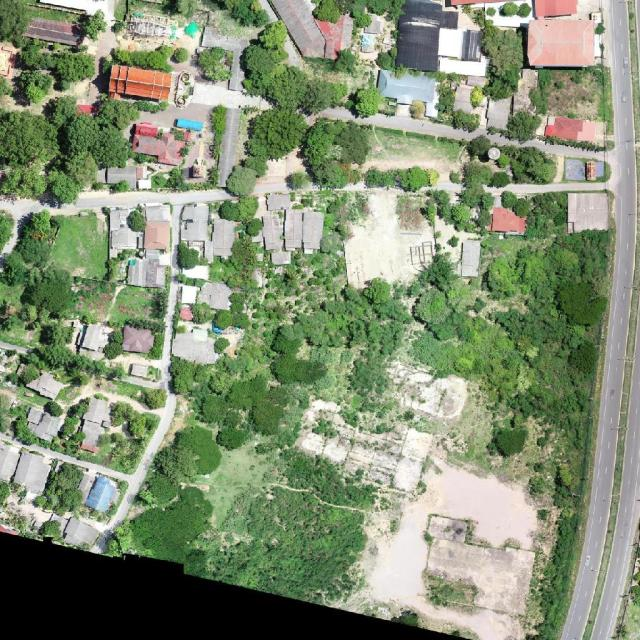building: (108, 202, 172, 288), (370, 58, 450, 120), (260, 191, 326, 266), (269, 0, 332, 67), (195, 26, 250, 91), (527, 17, 596, 67), (128, 119, 193, 169), (107, 63, 173, 108), (71, 394, 119, 455), (0, 443, 54, 496), (446, 80, 500, 127), (169, 322, 224, 368), (214, 107, 244, 189), (23, 15, 85, 47), (543, 115, 606, 143), (568, 192, 609, 233), (179, 280, 232, 311), (74, 320, 112, 362), (21, 407, 63, 444), (25, 366, 65, 402), (60, 517, 100, 553), (200, 219, 235, 260), (85, 474, 119, 514), (180, 203, 209, 242), (564, 159, 608, 184), (121, 325, 156, 356), (484, 95, 512, 130), (491, 207, 527, 233), (106, 163, 138, 189), (460, 240, 482, 277), (73, 470, 97, 502), (535, 0, 578, 16), (363, 13, 388, 40), (191, 164, 206, 178)
dryland: (350, 443, 570, 640), (329, 182, 445, 309), (314, 402, 436, 495), (401, 370, 470, 424)
greenland: (188, 424, 391, 613), (445, 211, 618, 426), (255, 254, 427, 435), (174, 308, 352, 479), (104, 414, 249, 588), (224, 17, 329, 203), (0, 93, 139, 208), (0, 210, 112, 345), (467, 401, 578, 502), (414, 254, 486, 377), (23, 315, 116, 399), (215, 195, 263, 329), (296, 115, 373, 193), (87, 397, 160, 478), (13, 41, 97, 109), (104, 283, 169, 364), (264, 252, 345, 312), (480, 18, 526, 101), (422, 184, 496, 235), (506, 65, 553, 145), (499, 190, 569, 240), (495, 144, 559, 185), (38, 461, 84, 515), (314, 1, 405, 28), (55, 392, 93, 443), (364, 166, 439, 191), (112, 378, 167, 410), (111, 46, 173, 74), (194, 44, 233, 86), (5, 403, 38, 449), (309, 79, 348, 112), (463, 161, 510, 188), (207, 104, 228, 161), (26, 5, 79, 26), (168, 356, 196, 395), (435, 72, 460, 114), (78, 10, 108, 43), (353, 87, 384, 118), (450, 108, 481, 133), (14, 360, 42, 387), (332, 47, 357, 75), (467, 134, 492, 161), (178, 242, 199, 269), (191, 302, 215, 325), (39, 519, 63, 540), (376, 48, 398, 70), (515, 1, 534, 21), (409, 101, 426, 119), (499, 1, 519, 16), (172, 48, 189, 63)
metalled_road: (110, 392, 184, 526), (0, 433, 132, 488), (54, 179, 233, 215), (359, 108, 487, 144), (156, 280, 180, 381), (528, 138, 606, 164), (486, 181, 608, 196), (169, 205, 183, 281), (0, 200, 41, 218), (433, 176, 462, 196), (255, 182, 289, 195), (321, 107, 354, 120), (489, 133, 511, 146), (344, 181, 366, 191), (158, 423, 170, 441), (305, 184, 318, 192)
